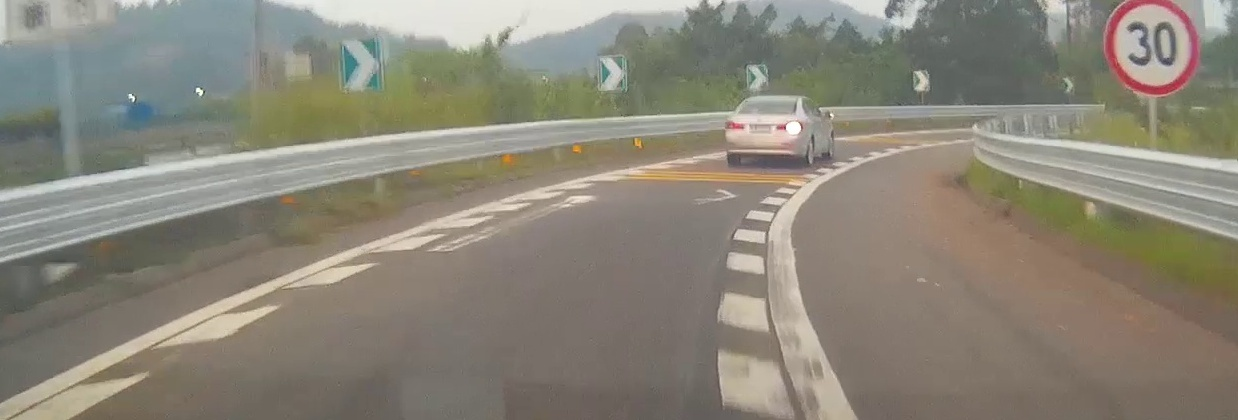L_light: (725, 120, 745, 129)
R_light: (776, 121, 801, 134)
T_light: (759, 110, 771, 114)
day-right: (725, 95, 803, 165)
